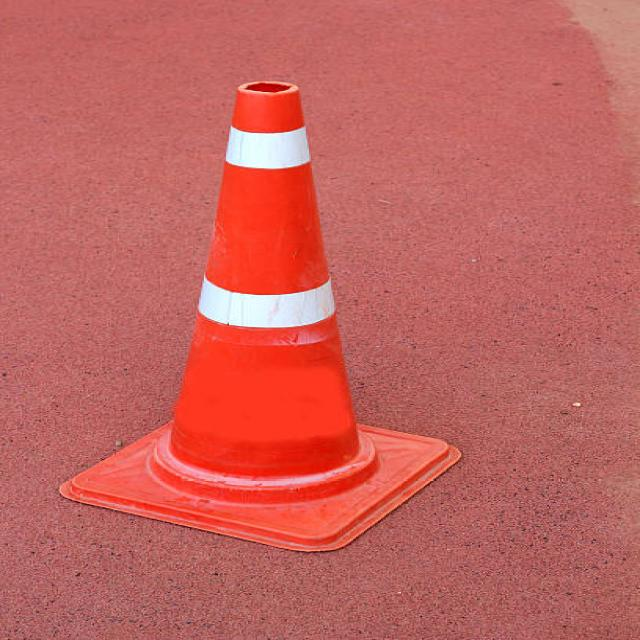Traffic Cone: (34, 30, 510, 570)
